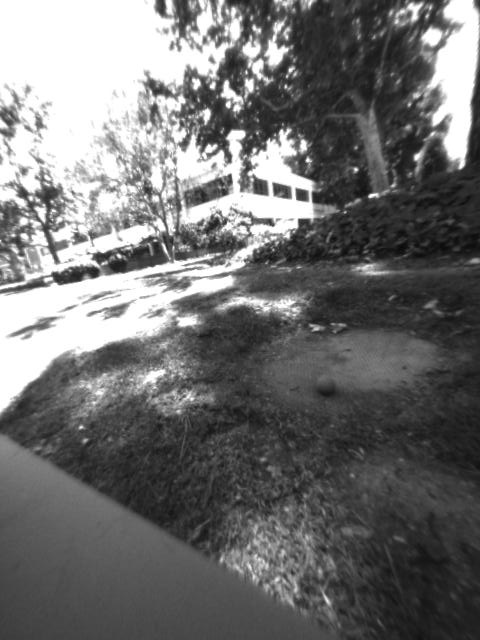dogtoy: (309, 364, 351, 404)
